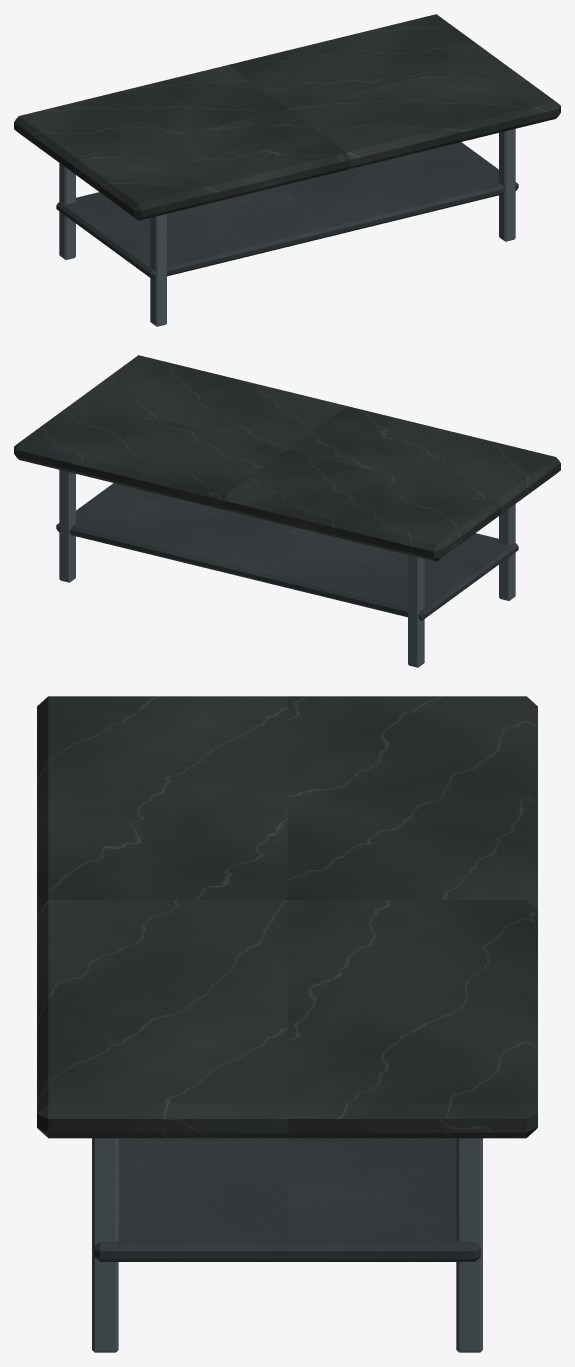
The model's file is CoffeeTable.glb.
The picture shows the model from 3 angles, top to bottom: view 1: azimuth 30°, elevation 25°; view 2: azimuth 150°, elevation 25°; view 3: azimuth 270°, elevation 25°; orthographic projection. The views are drawn at different scales.
Visible parts, largest first — view 1: CoffeeTable__BlackMarble__mesh, CoffeeTable__Powdercoat__mesh, CoffeeTable__BlackenedSteel__mesh; view 2: CoffeeTable__BlackMarble__mesh, CoffeeTable__Powdercoat__mesh, CoffeeTable__BlackenedSteel__mesh; view 3: CoffeeTable__BlackMarble__mesh, CoffeeTable__Powdercoat__mesh, CoffeeTable__BlackenedSteel__mesh.
Part boxes in pixels (left/top/right/bottom): CoffeeTable__BlackMarble__mesh: left=14, top=14, right=560, bottom=220; CoffeeTable__Powdercoat__mesh: left=56, top=142, right=518, bottom=279; CoffeeTable__BlackenedSteel__mesh: left=59, top=129, right=515, bottom=326; CoffeeTable__BlackMarble__mesh: left=14, top=355, right=560, bottom=561; CoffeeTable__Powdercoat__mesh: left=56, top=483, right=518, bottom=620; CoffeeTable__BlackenedSteel__mesh: left=59, top=470, right=515, bottom=667; CoffeeTable__BlackMarble__mesh: left=37, top=696, right=537, bottom=1138; CoffeeTable__Powdercoat__mesh: left=94, top=1138, right=480, bottom=1261; CoffeeTable__BlackenedSteel__mesh: left=92, top=1138, right=482, bottom=1352.
Size of the model in its own units: 1.3 by 0.4045 by 0.66.
3 materials, 2 textured.
